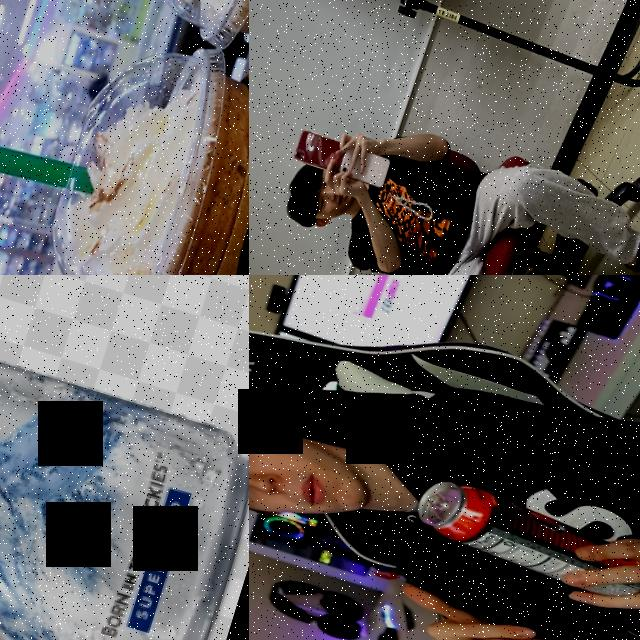can: (0, 275, 249, 640), (405, 469, 640, 608)
cup: (22, 17, 249, 275), (117, 0, 249, 121)
